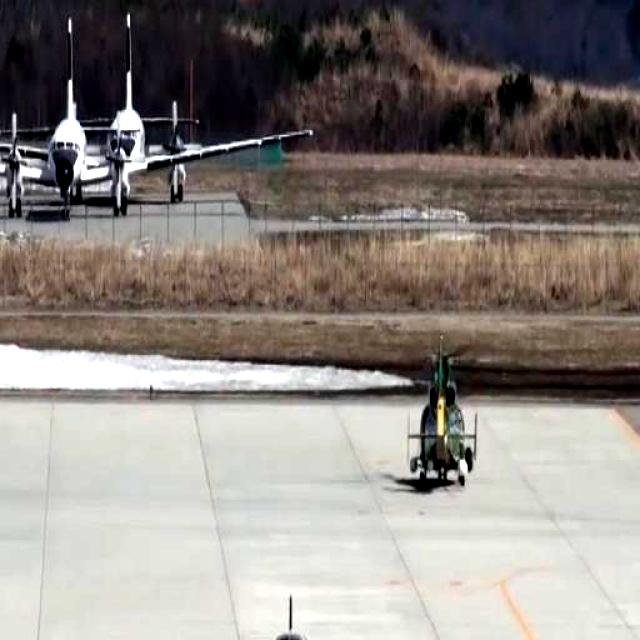drone: (404, 339, 484, 502)
